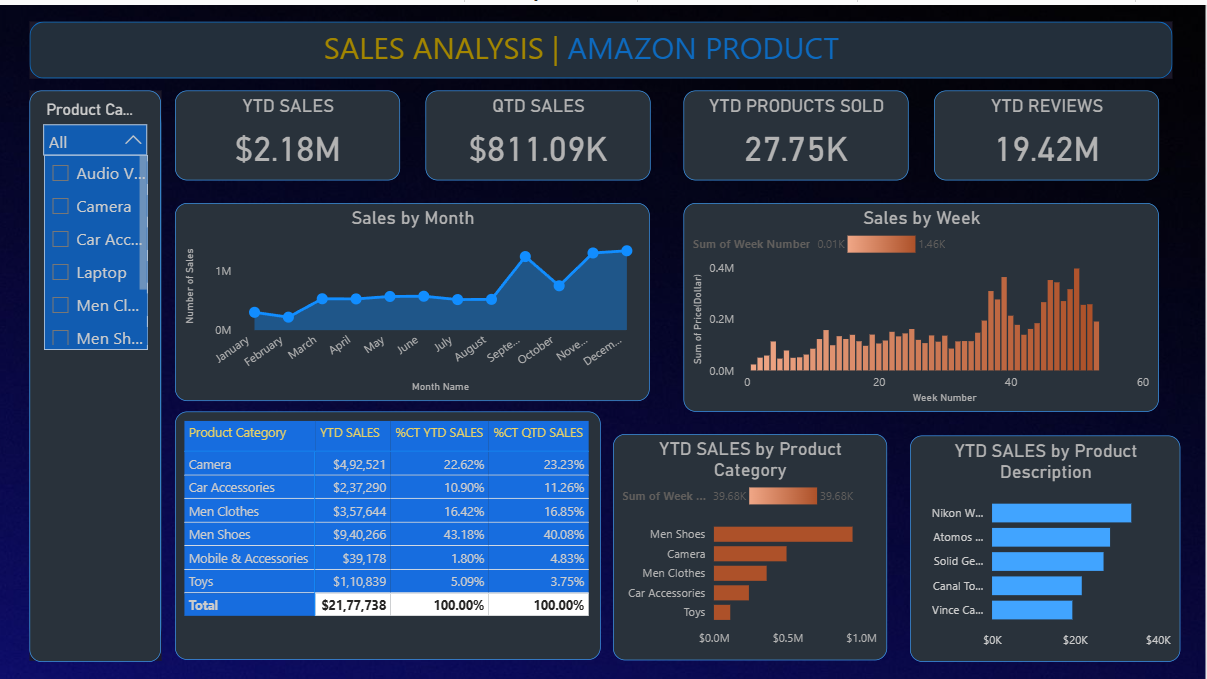

The page's visual inventory and layout, read from the dashboard file:
{"tool":"powerbi","page":{"name":"Page 1","canvas":[1280,720],"ordinal":0},"visuals":[{"type":"shape","box":[33.4,17.5,1212,60.4],"z":0},{"type":"textbox","box":[340.4,17.5,625.1,73.2],"z":1000},{"type":"shape","box":[33.4,90.7,140,604.4],"z":2000},{"type":"card","title":"YTD SALES","fields":{"Values":["Amazon_Data.YTD SALES"]},"box":[187.7,90.7,238.6,95.4],"z":3000},{"type":"card","title":"QTD SALES","fields":{"Values":["Amazon_Data.QTD SALES"]},"box":[453.3,90.7,238.6,95.4],"z":4000},{"type":"card","title":"YTD PRODUCTS SOLD","fields":{"Values":["Amazon_Data.YTD SOLD"]},"box":[726.9,90.7,238.6,95.4],"z":5000},{"type":"card","title":"YTD REVIEWS","fields":{"Values":["Amazon_Data.YTD REVIEWS"]},"box":[992.5,90.7,238.6,95.4],"z":6000},{"type":"areaChart","title":"Sales by Month","fields":{"Category":["Table.Month Name"],"Y":["Sum(Amazon_Data.Price(Dollar))"]},"box":[188,209.8,503.5,209.8],"z":6001},{"type":"columnChart","title":"Sales by Week","fields":{"Category":["Table.Week Number"],"Y":["Sum(Amazon_Data.Price(Dollar))"]},"box":[727.2,210.3,504.1,221.5],"z":6002},{"type":"pivotTable","fields":{"Rows":["Amazon_Data.Product Category"],"Values":["Amazon_Data.YTD SALES1","Amazon_Data.YTD SALES","Amazon_Data.QTD SALES"]},"box":[188,431.3,451.5,263.5],"z":6003},{"type":"clusteredBarChart","fields":{"Category":["Amazon_Data.Product Category"],"Y":["Amazon_Data.YTD SALES"]},"box":[652.9,454.8,290.4,240],"z":6004},{"type":"clusteredBarChart","fields":{"Category":["Amazon_Data.Product Description"],"Y":["Amazon_Data.YTD SALES"]},"box":[966.7,456.5,287,240],"z":6005},{"type":"slicer","fields":{"Values":["Amazon_Data.Product Category"]},"box":[33.6,90.6,139.3,605.9],"z":6006}]}

Visuals, with their boxes in screenshot pixels (x1, y1, x2, y2), scaled from the page's 1280x720 canvas onto the 1207x679 screenshot:
shape: bbox(31, 17, 1174, 73)
textbox: bbox(321, 17, 910, 86)
shape: bbox(31, 86, 164, 656)
"YTD SALES" card: bbox(177, 86, 402, 176)
"QTD SALES" card: bbox(427, 86, 652, 176)
"YTD PRODUCTS SOLD" card: bbox(685, 86, 910, 176)
"YTD REVIEWS" card: bbox(936, 86, 1161, 176)
"Sales by Month" areaChart: bbox(177, 198, 652, 396)
"Sales by Week" columnChart: bbox(686, 198, 1161, 407)
pivotTable - Amazon_Data.Product Category x Amazon_Data.YTD SALES1: bbox(177, 407, 603, 655)
clusteredBarChart - Amazon_Data.Product Category x Amazon_Data.YTD SALES: bbox(616, 429, 890, 655)
clusteredBarChart - Amazon_Data.Product Description x Amazon_Data.YTD SALES: bbox(912, 431, 1182, 657)
slicer - Amazon_Data.Product Category: bbox(32, 85, 163, 657)
